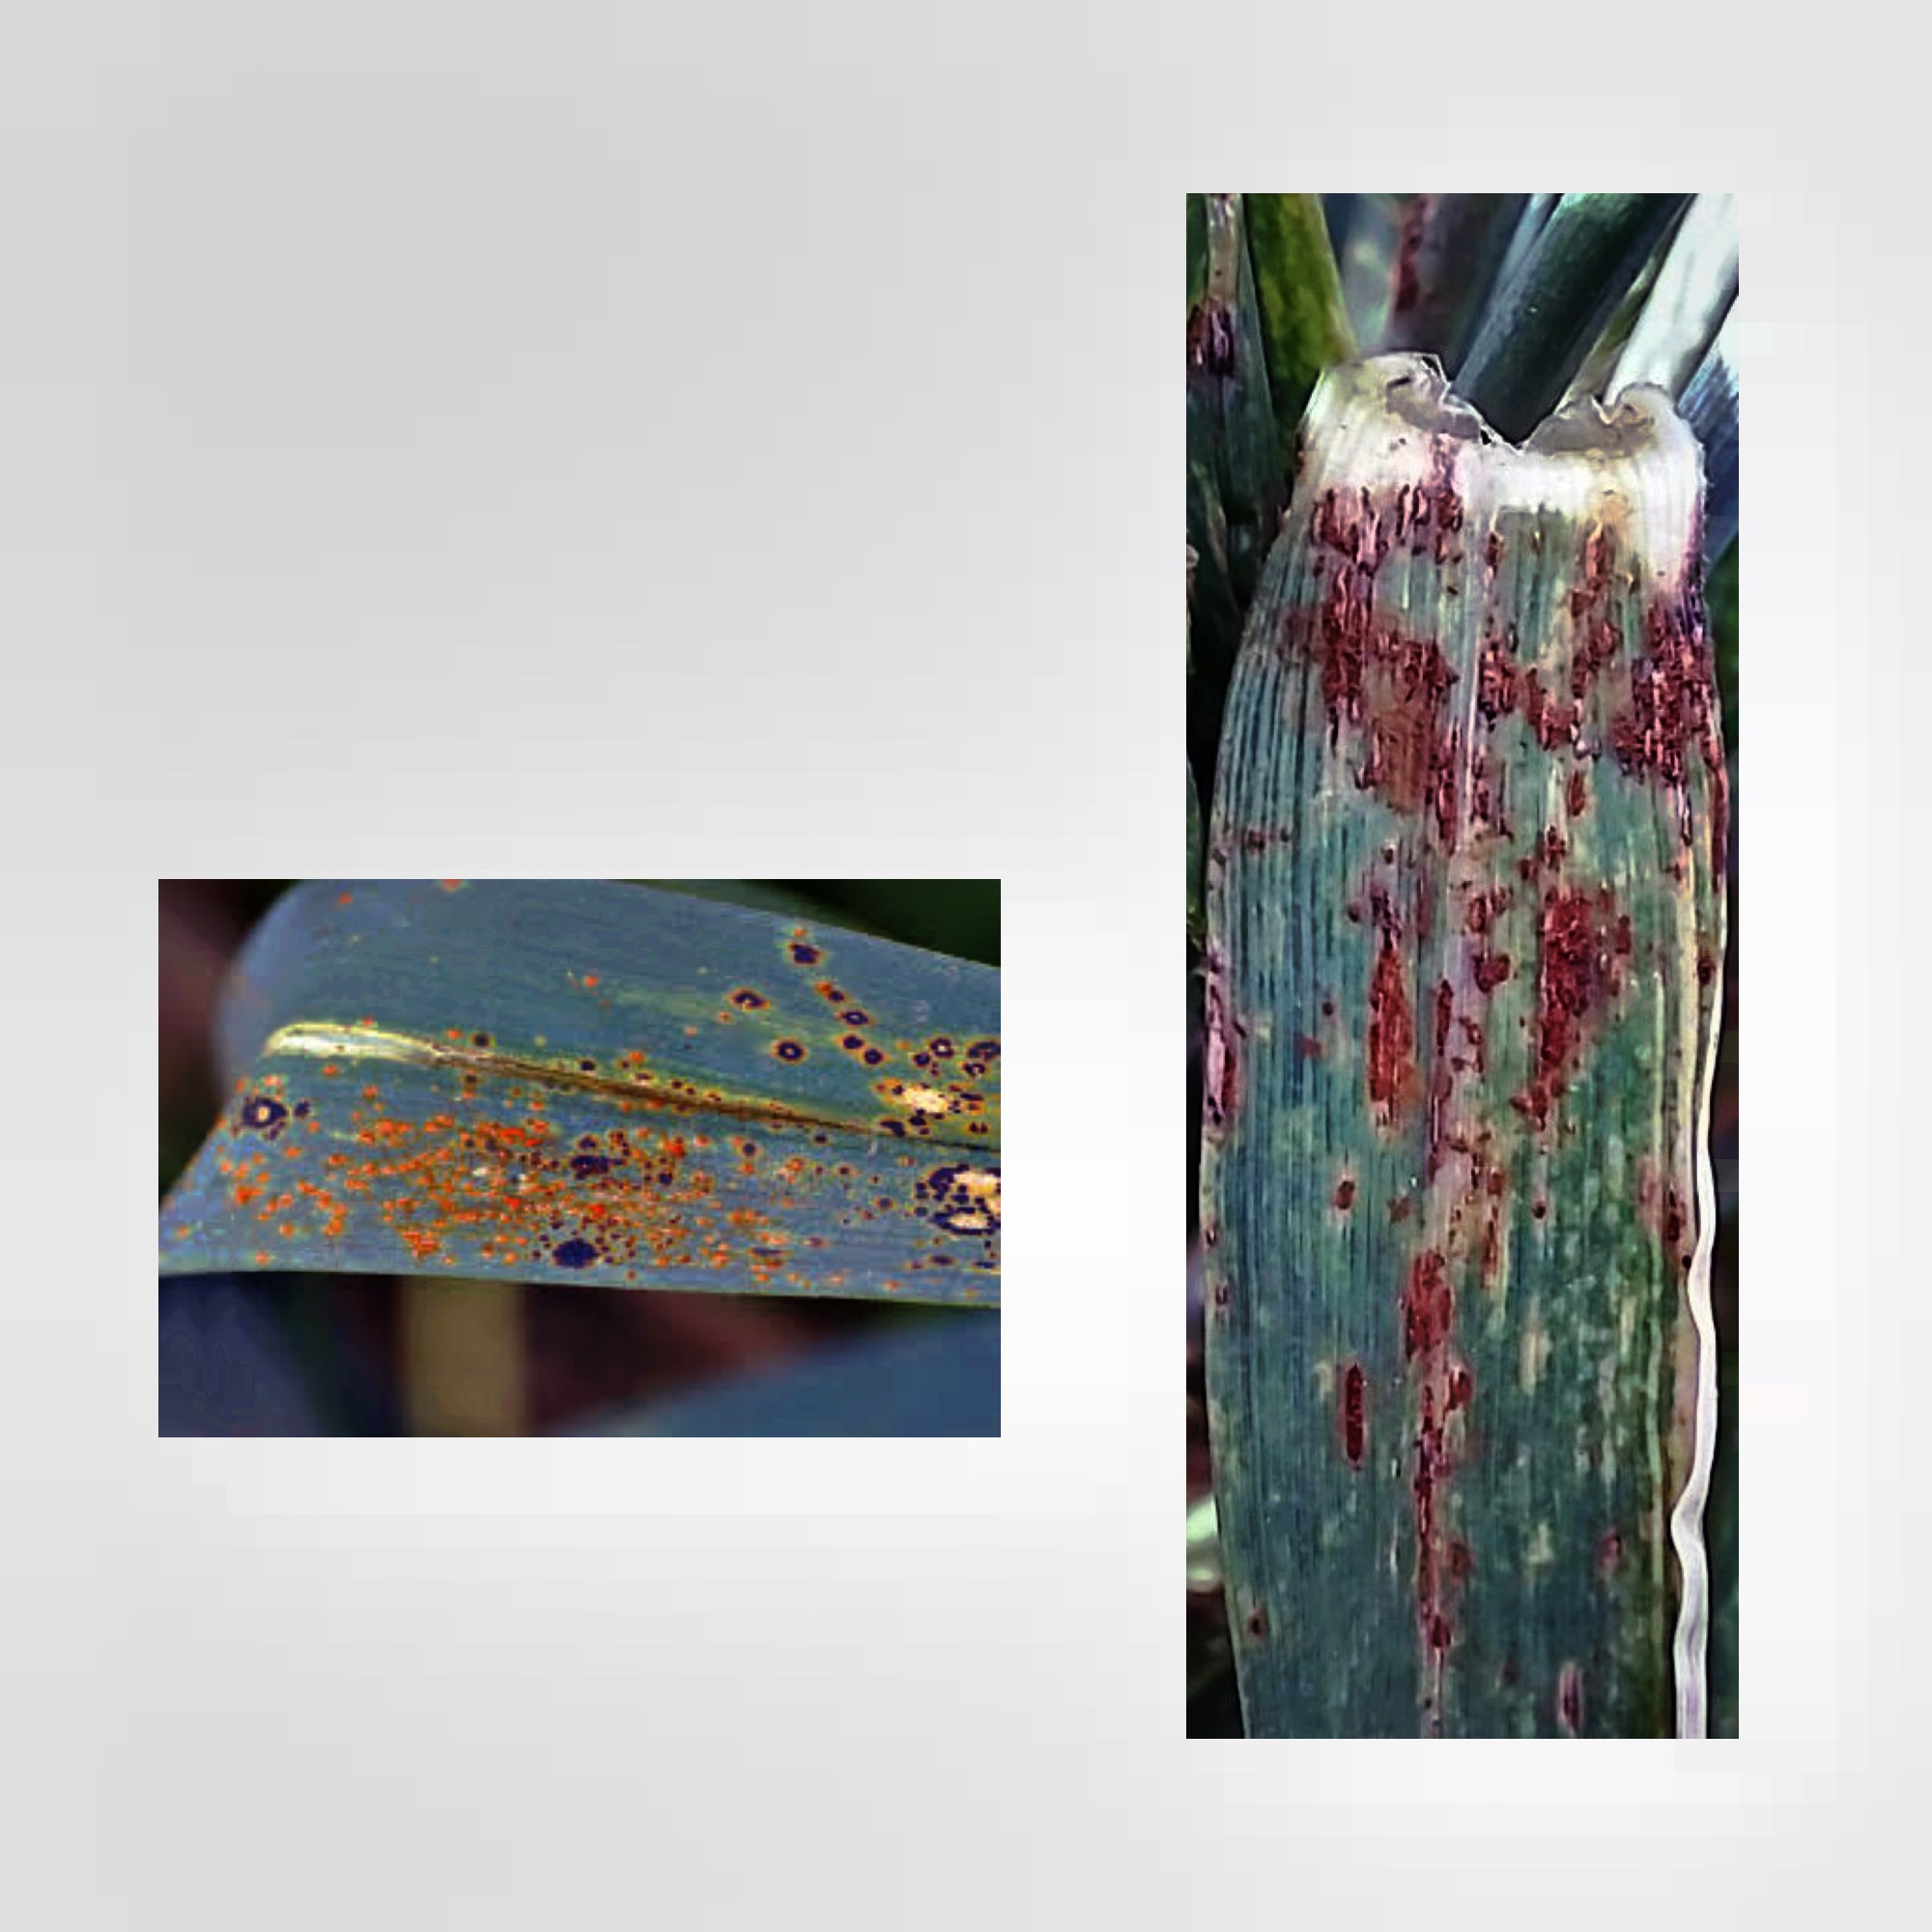Leaf Rust: (1207, 476, 1755, 1594), (196, 943, 989, 1350)
